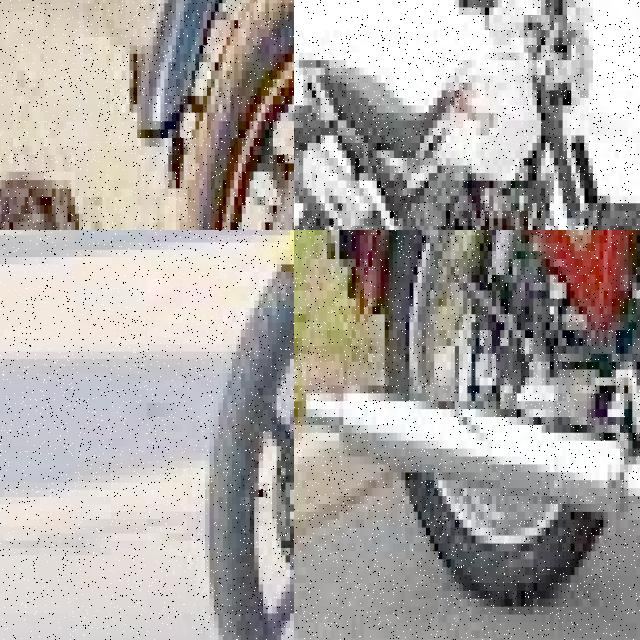bike: (314, 230, 640, 640), (294, 0, 640, 230), (200, 230, 294, 640), (141, 0, 294, 230)
